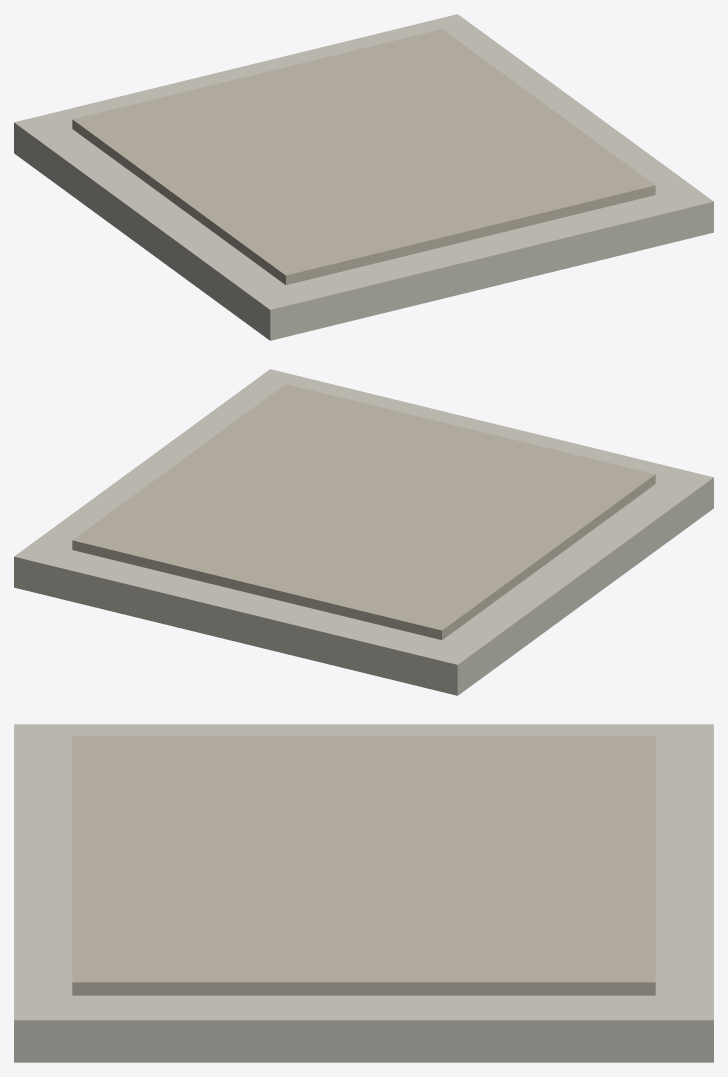
File: plate.glb
3 views of the same model, one above another, from view 1: azimuth 30°, elevation 25°; view 2: azimuth 150°, elevation 25°; view 3: azimuth 270°, elevation 25° (orthographic). The views are drawn at different scales.
Visible parts, largest first — view 1: body; view 2: body; view 3: body.
Boxes of the visible parts, bbox=[...] form: body: bbox=[14, 14, 713, 340]; body: bbox=[14, 369, 713, 695]; body: bbox=[14, 724, 713, 1062].
Size of the model in its own units: 0.24 by 0.021 by 0.24.
